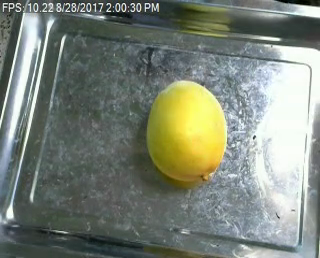Mango: (146, 80, 226, 181)
